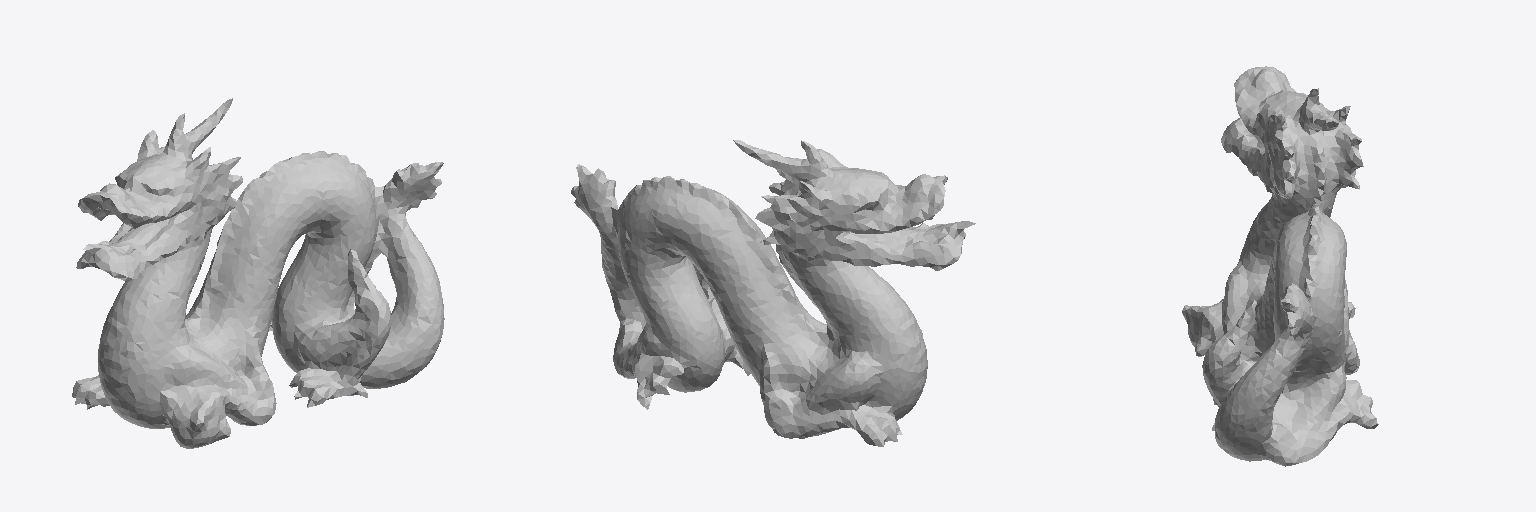
Rendered from dragon_iso.obj.
The picture shows the model from 3 angles: view 1: azimuth 30°, elevation 25°; view 2: azimuth 150°, elevation 25°; view 3: azimuth 270°, elevation 25°; orthographic projection.
Size of the model in its own units: 20.23 by 14.36 by 9.05.